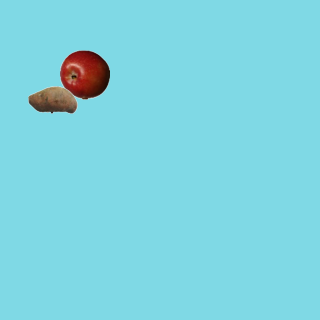Apple Braeburn: (59, 49, 109, 99)
Potato Sweet: (27, 74, 77, 124)
